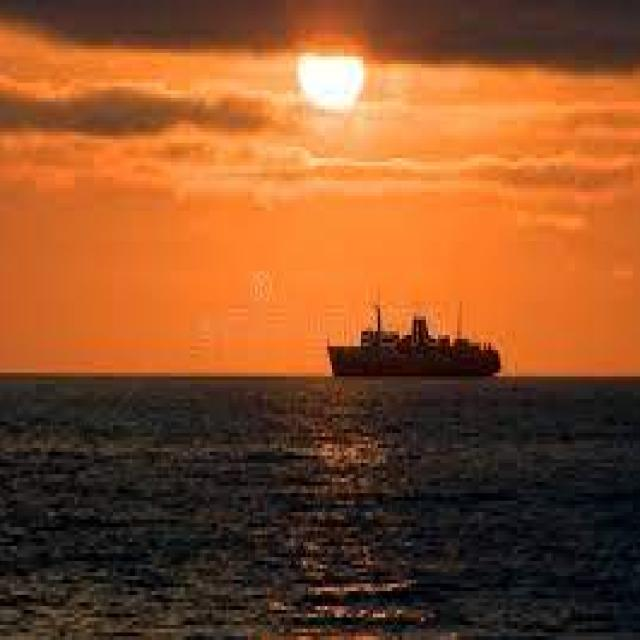cargoship: (325, 299, 504, 375)
